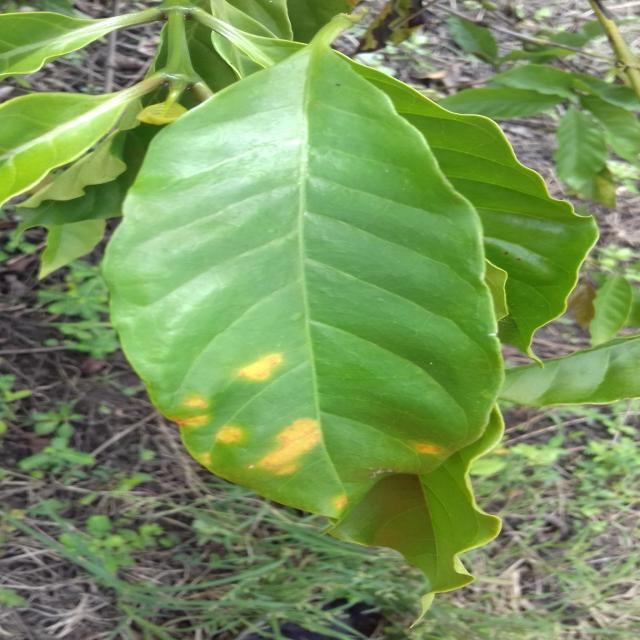Enfermedad-Roya: (103, 17, 504, 595)
